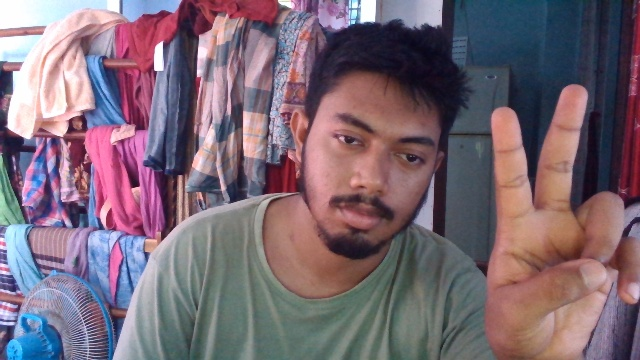thanks: (476, 68, 640, 356)
